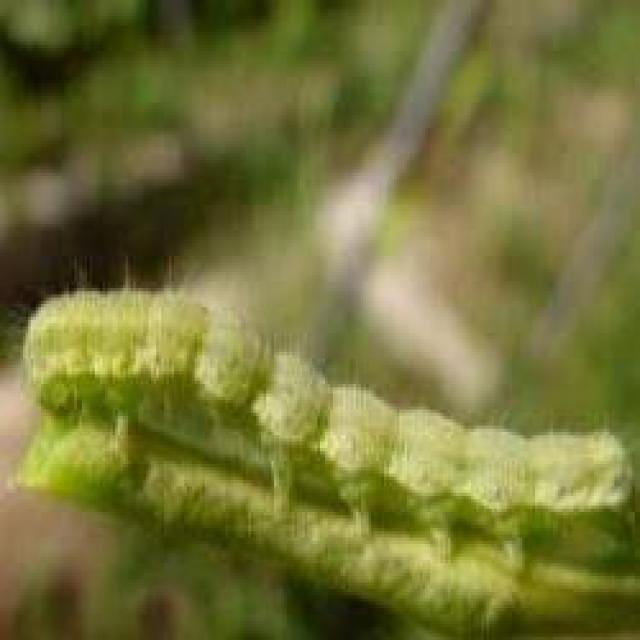BeetArmyWorm-Larva-: (15, 273, 638, 577)
